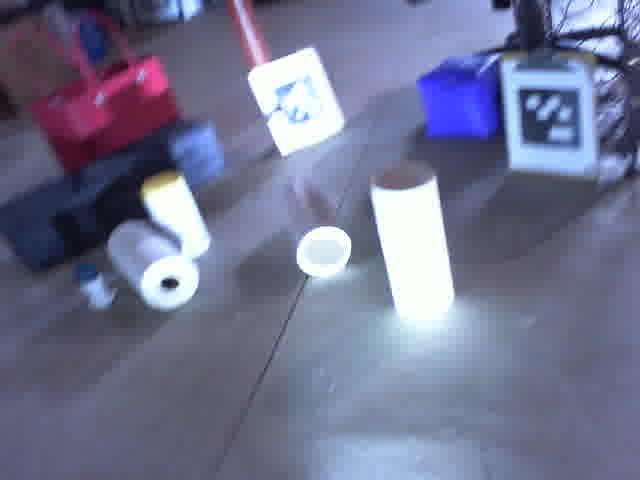coral: (365, 156, 449, 329), (270, 177, 357, 280)
